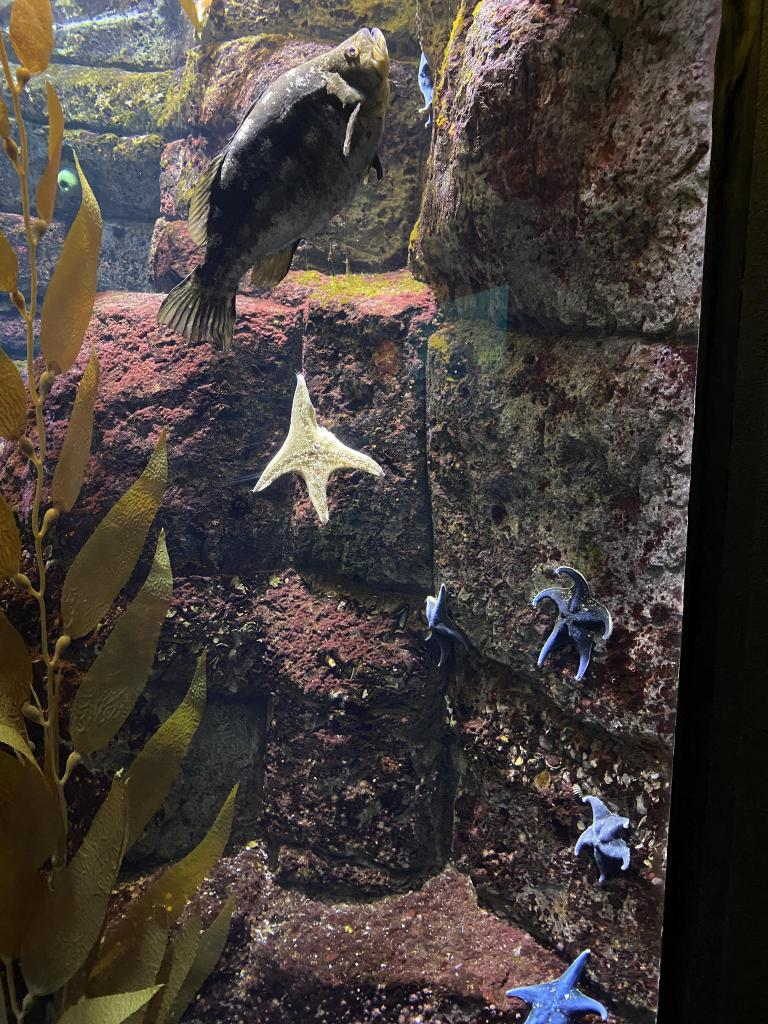Fish: (155, 34, 393, 353)
Starfish: (255, 379, 384, 522), (534, 565, 614, 682), (505, 949, 608, 1021), (574, 797, 631, 881)
